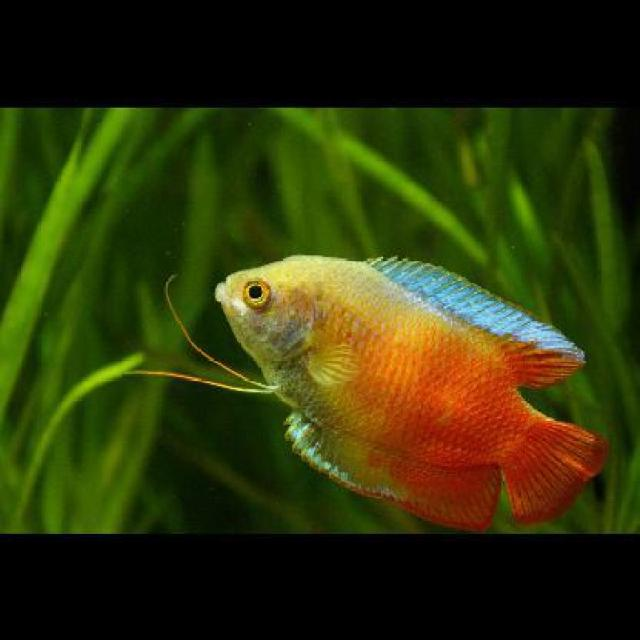Gourami: (216, 252, 612, 532)
